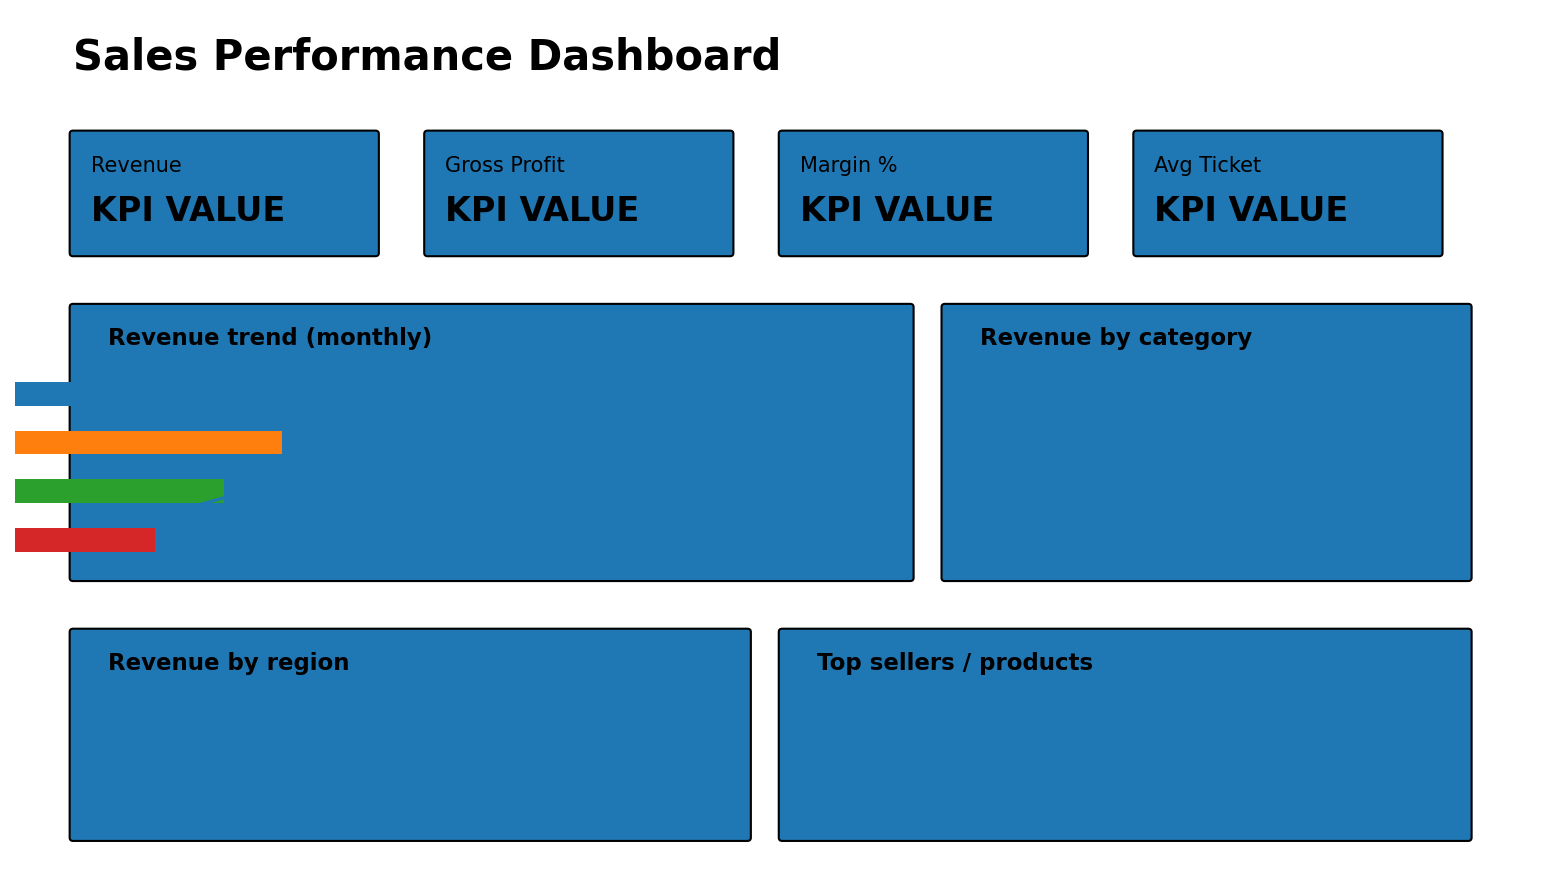

The dashboard page shown, as its layout file describes it:
{"tool":"powerbi","page":{"name":"Overview","canvas":[1920,1080],"ordinal":0},"visuals":[{"type":"cardVisual","fields":{"Data":["_Measures.Revenue"]},"box":[48,120,438,108],"z":0},{"type":"cardVisual","fields":{"Data":["_Measures.Gross Profit"]},"box":[510,120,438,108],"z":1000},{"type":"cardVisual","fields":{"Data":["_Measures.Margin %"]},"box":[972,120,438,108],"z":2000},{"type":"cardVisual","fields":{"Data":["_Measures.Transactions"]},"box":[1434,120,438,108],"z":3000},{"type":"lineChart","fields":{"Category":["public dim_date.year_month"],"Y":["_Measures.Revenue"]},"box":[48,252,1824,300],"z":4000},{"type":"clusteredColumnChart","fields":{"Category":["public dim_product.category"],"Y":["_Measures.Revenue"]},"box":[48,576,900,220],"z":5000},{"type":"barChart","fields":{"Category":["public dim_region.region"],"Y":["_Measures.Revenue"]},"box":[972,576,900,220],"z":6000},{"type":"barChart","fields":{"Category":["public dim_product.product_name"],"Y":["_Measures.Revenue"]},"box":[48,820,900,212],"z":7000},{"type":"clusteredBarChart","fields":{"Category":["public dim_seller.seller_name"],"Y":["_Measures.Revenue","_Measures.Gross Profit"]},"box":[972,820,900,212],"z":8000},{"type":"textbox","box":[48,24,1824,48],"z":9000},{"type":"textbox","box":[48,72,1824,28],"z":10000}]}

Visuals, with their boxes on the page's 1920x1080 design canvas (x1, y1, x2, y2). These are canvas units, not pixel positions in the 1541x896 screenshot, which may show the page scaled, cropped or inside an application window:
cardVisual - _Measures.Revenue: {"left": 48, "top": 120, "right": 486, "bottom": 228}
cardVisual - _Measures.Gross Profit: {"left": 510, "top": 120, "right": 948, "bottom": 228}
cardVisual - _Measures.Margin %: {"left": 972, "top": 120, "right": 1410, "bottom": 228}
cardVisual - _Measures.Transactions: {"left": 1434, "top": 120, "right": 1872, "bottom": 228}
lineChart - public dim_date.year_month x _Measures.Revenue: {"left": 48, "top": 252, "right": 1872, "bottom": 552}
clusteredColumnChart - public dim_product.category x _Measures.Revenue: {"left": 48, "top": 576, "right": 948, "bottom": 796}
barChart - public dim_region.region x _Measures.Revenue: {"left": 972, "top": 576, "right": 1872, "bottom": 796}
barChart - public dim_product.product_name x _Measures.Revenue: {"left": 48, "top": 820, "right": 948, "bottom": 1032}
clusteredBarChart - public dim_seller.seller_name x _Measures.Revenue: {"left": 972, "top": 820, "right": 1872, "bottom": 1032}
textbox: {"left": 48, "top": 24, "right": 1872, "bottom": 72}
textbox: {"left": 48, "top": 72, "right": 1872, "bottom": 100}
